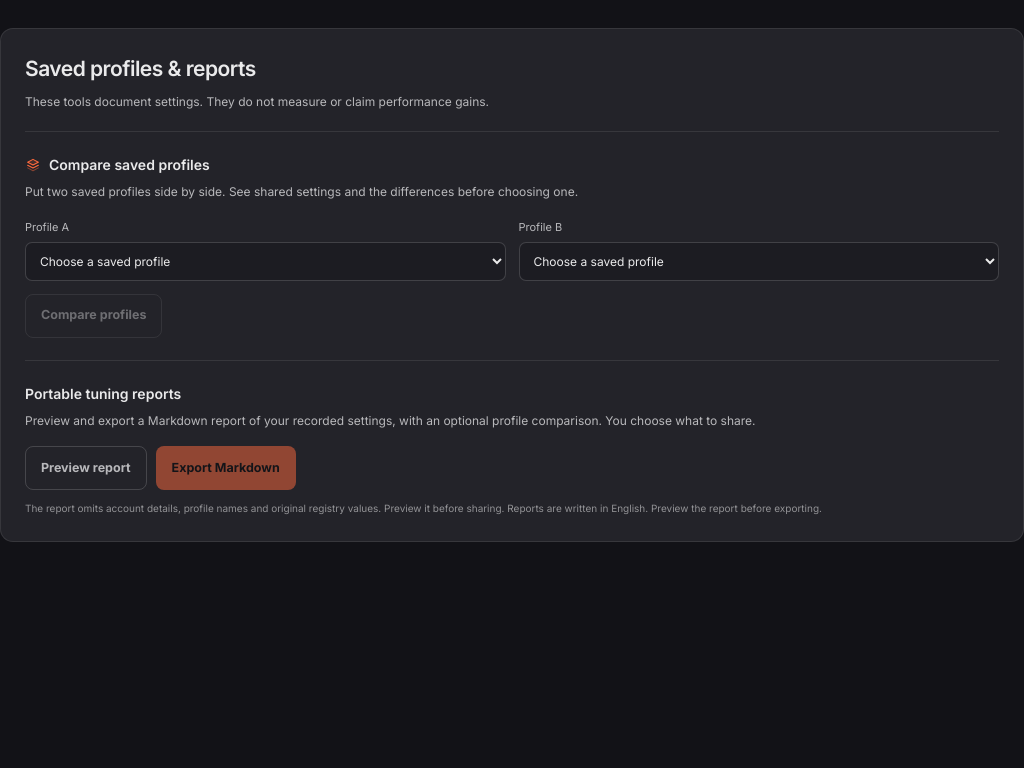
Test: LifetimeTools › keeps export closed until a report has been previewed
This screenshot has width=1024, height=768.
Select "Gaming" in the dropdown labelled "Profile A" at (265, 261), box [25, 242, 506, 281]
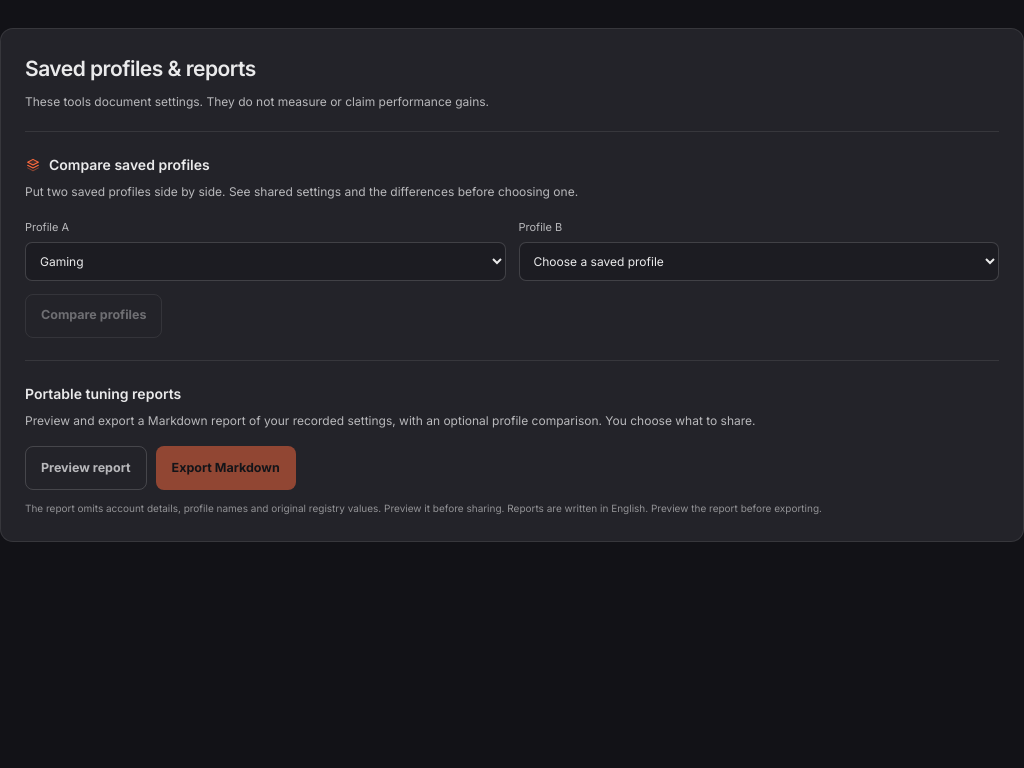
Select "Work" in the dropdown labelled "Profile B" at (759, 261), box [518, 242, 999, 281]
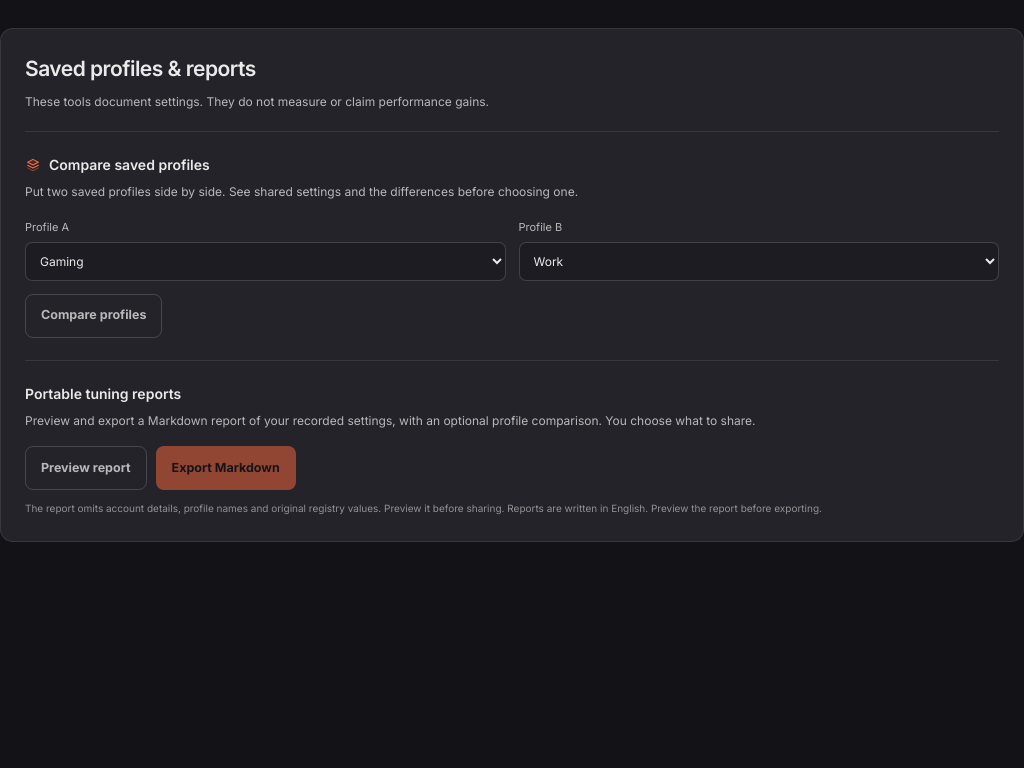
Click the button "Compare profiles".
click(94, 316)  # box [25, 294, 162, 338]
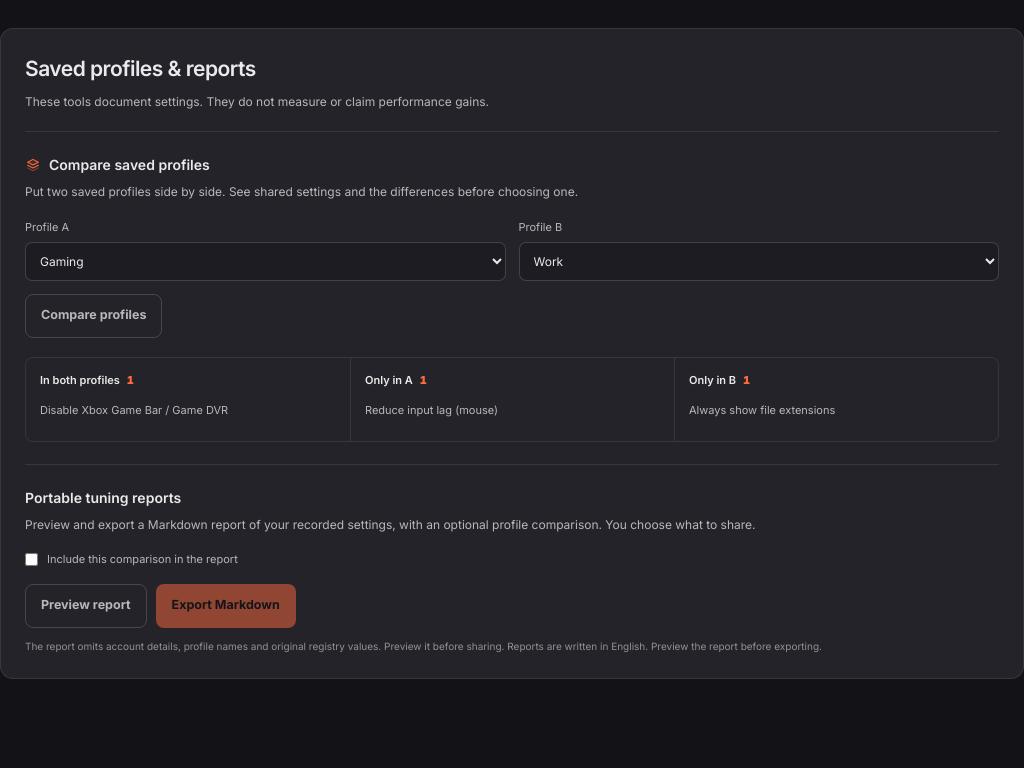
Expected: the button "Export Markdown" is disabled, [156, 584, 296, 628]
Expected: the heading "In both profiles 1" is shown, [40, 373, 134, 387]
Click the button "Preview report".
click(86, 606)  # box [25, 584, 146, 628]
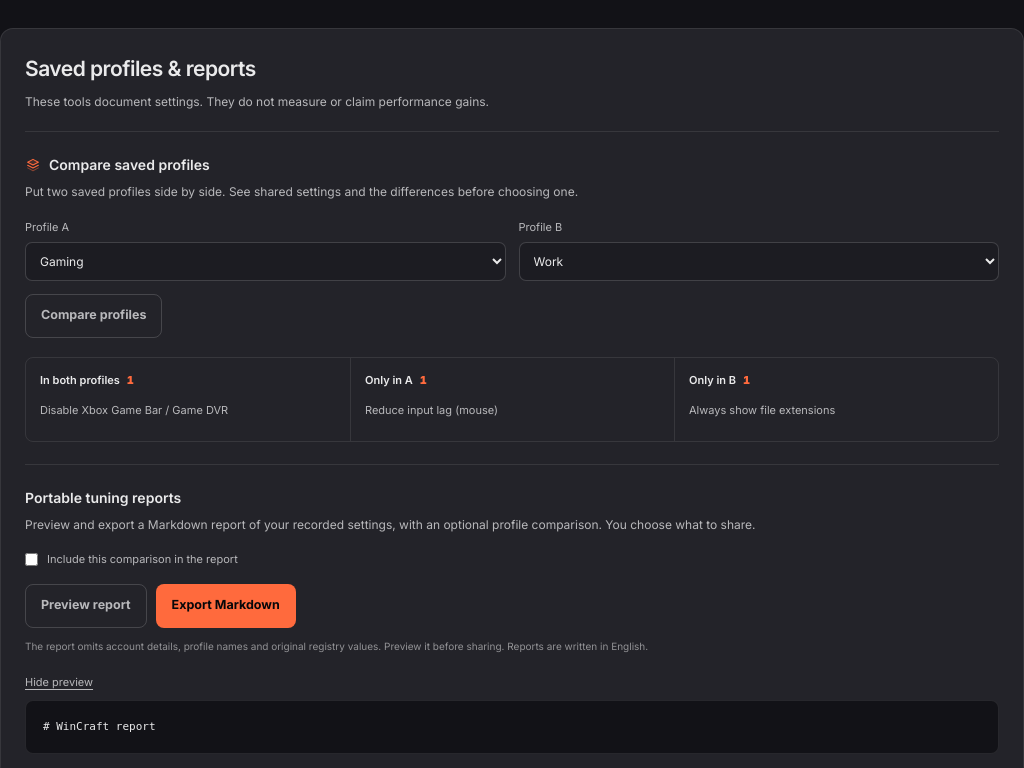
Expected: the text named "Preview report" reads "# WinCraft report", [43, 720, 156, 732]
Click the button "Export Markdown".
click(226, 606)  # box [156, 584, 296, 628]
(page scrolled)
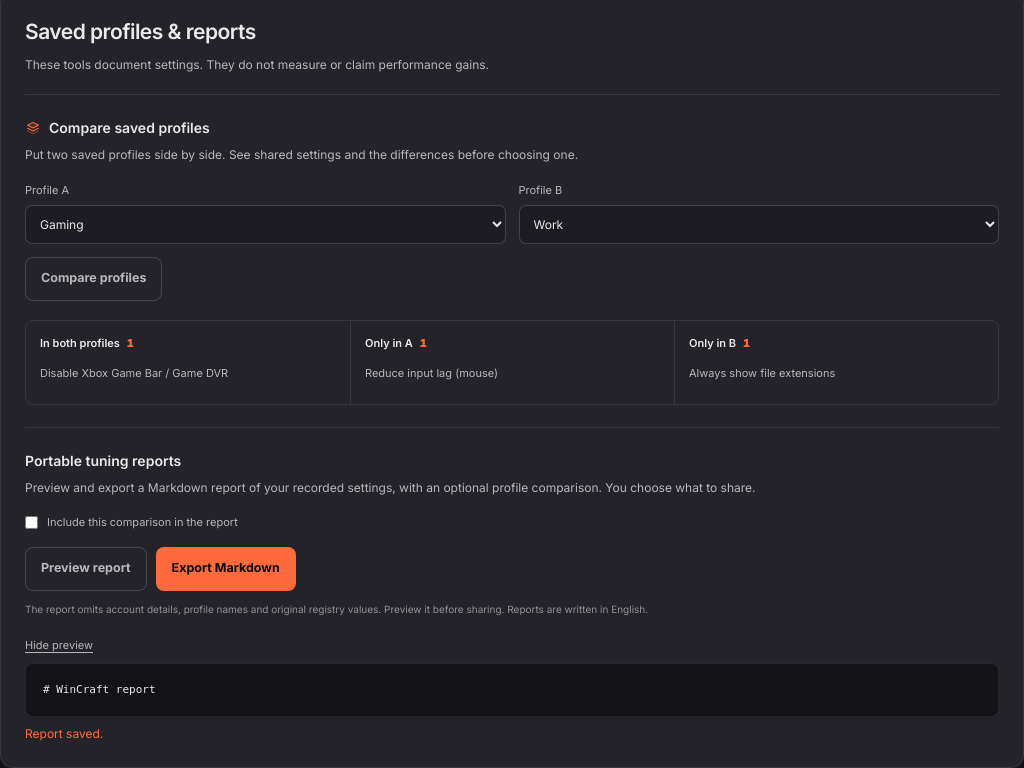
Expected: the message reads "Report saved.", [25, 726, 103, 741]
